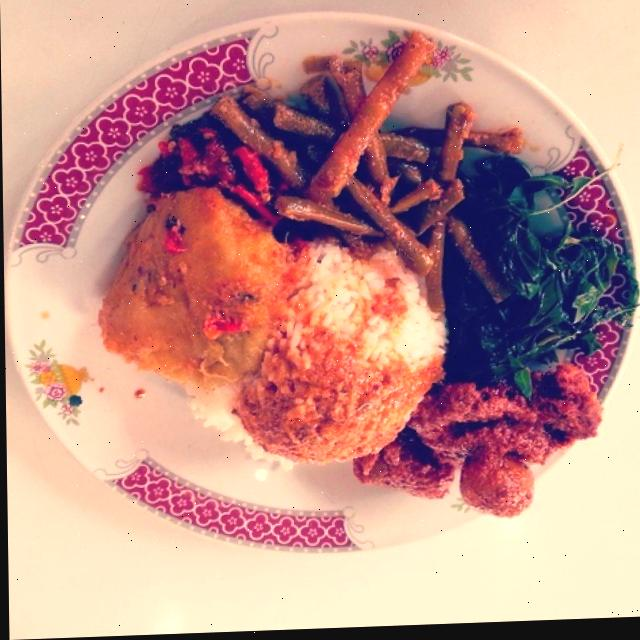米饭主食: (29, 0, 637, 577)
